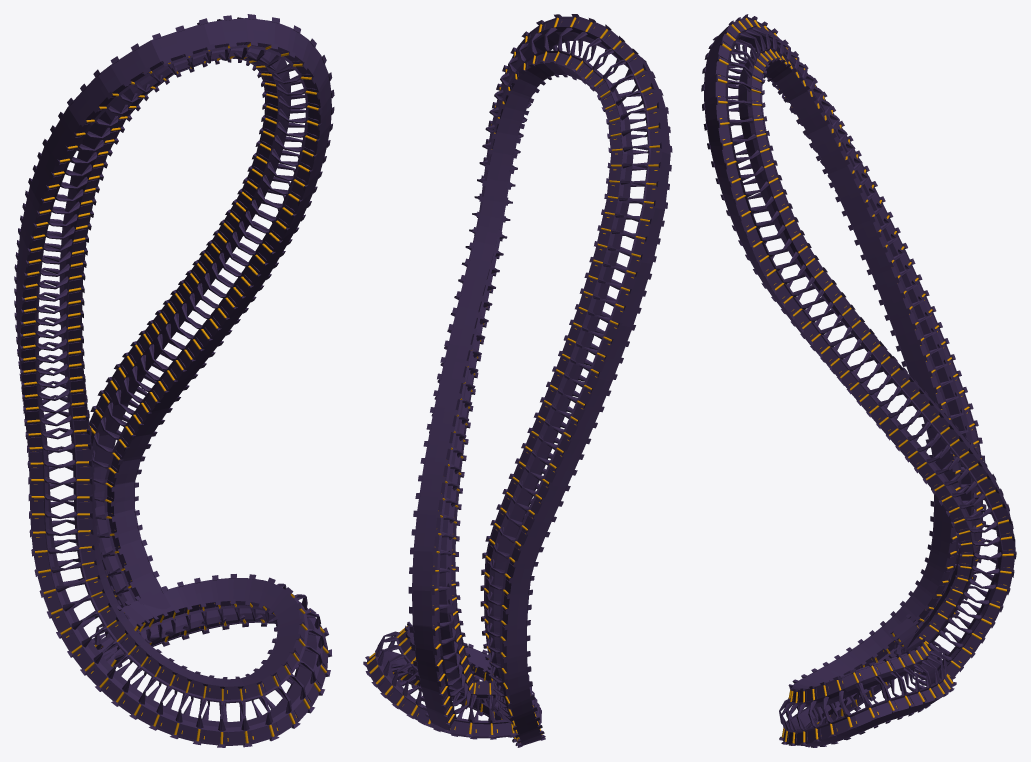
Rendered from skyscraper_4.fbx.
The picture shows the model from 3 angles, left to right: view 1: azimuth 30°, elevation 25°; view 2: azimuth 150°, elevation 25°; view 3: azimuth 270°, elevation 25°; orthographic projection. The views are drawn at different scales.
Visible parts, largest first — view 1: s4rd; view 2: s4rd; view 3: s4rd.
Part boxes in pixels (x1=…): s4rd: x1=14, y1=14, x2=334, y2=747; s4rd: x1=363, y1=14, x2=672, y2=747; s4rd: x1=701, y1=14, x2=1016, y2=747.
Bounding box in the file's own units: 784 × 1928 × 806.
